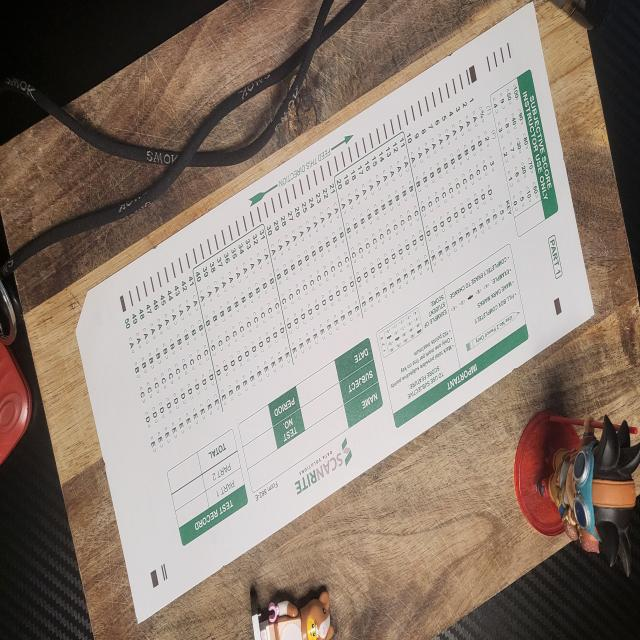scantron: (75, 0, 596, 625)
